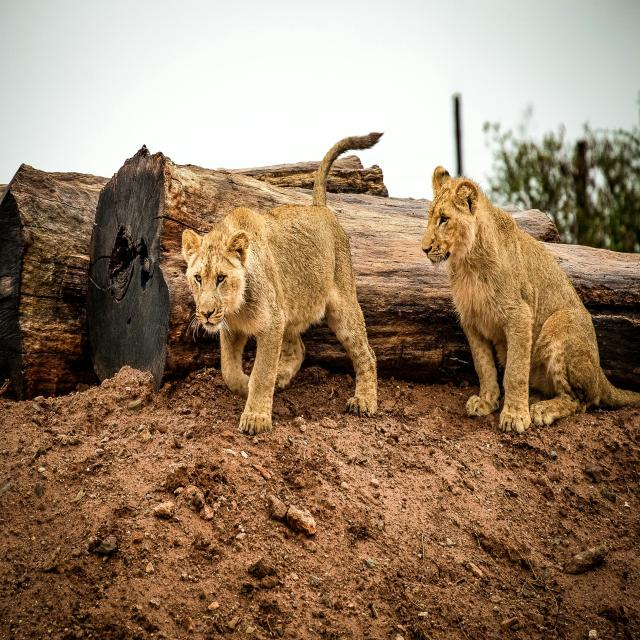Lion: (182, 128, 385, 434), (421, 164, 640, 433)
